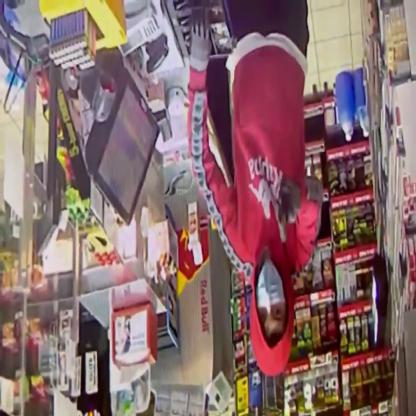Pistol: (272, 186, 296, 258)
